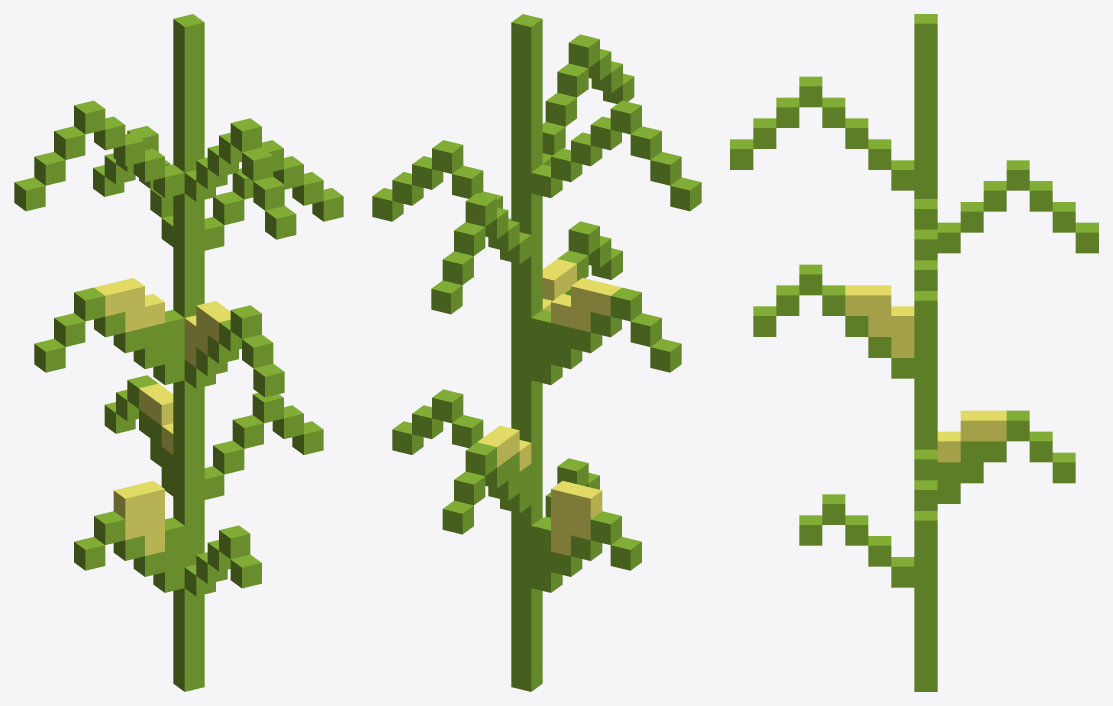
The model's file is corn3.obj.
The picture shows the model from 3 angles, left to right: view 1: azimuth 30°, elevation 25°; view 2: azimuth 150°, elevation 25°; view 3: azimuth 270°, elevation 25°; orthographic projection.
Bounding box in the file's own units: 1.6 × 3.2 × 1.6.
1 material, 1 textured.
